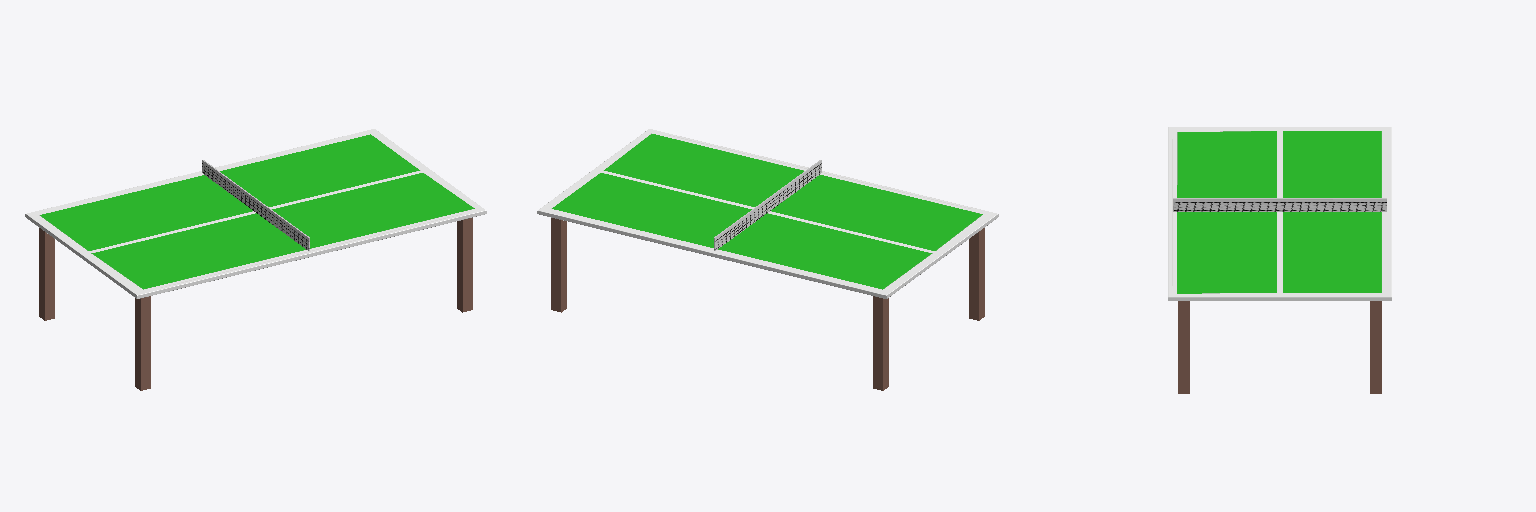
The picture shows the model from 3 angles: view 1: azimuth 30°, elevation 25°; view 2: azimuth 150°, elevation 25°; view 3: azimuth 270°, elevation 25°; orthographic projection.
Parts seen in each view (by area): view 1: PingPongTable:Box006; view 2: PingPongTable:Box006; view 3: PingPongTable:Box006.
Part boxes in pixels (x1,y1,x2,y2): PingPongTable:Box006: (25, 129, 486, 390); PingPongTable:Box006: (537, 129, 998, 390); PingPongTable:Box006: (1168, 127, 1391, 393).
Size of the model in its own units: 27.4 by 8.6 by 15.2.
Materials: 1 (1 with a texture image).